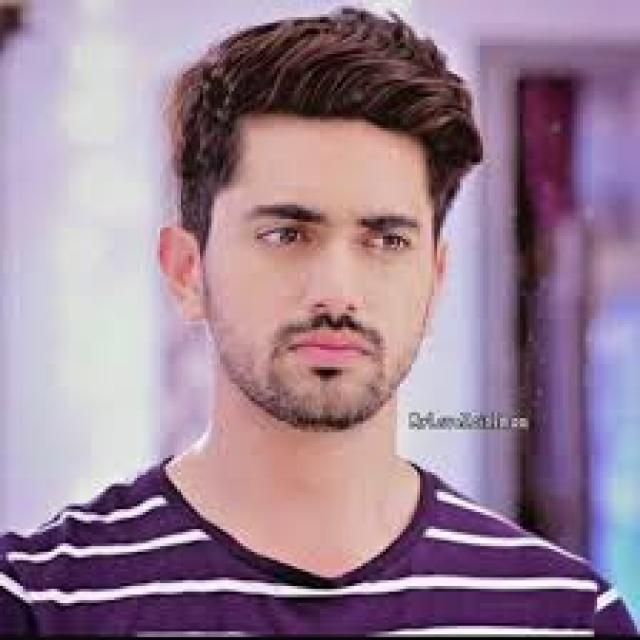no_dark_circle: (260, 239, 310, 264), (371, 246, 416, 270)
